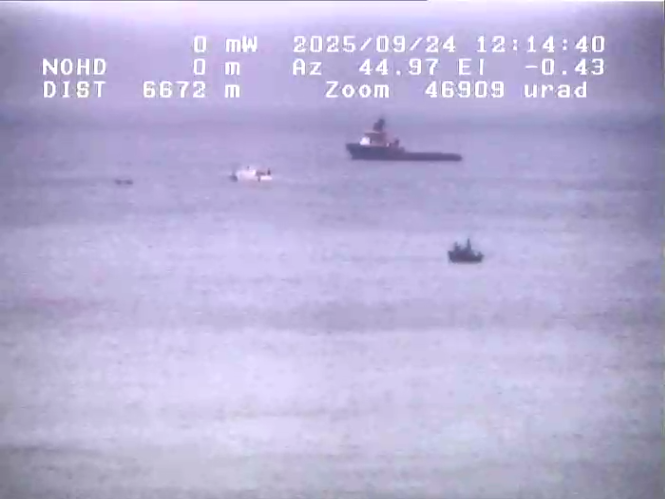OFFSHORE_SUPPLY_VESSEL: (333, 111, 477, 171)
PATROL_VESSEL: (207, 155, 283, 196)
TUGS: (430, 234, 498, 270)
